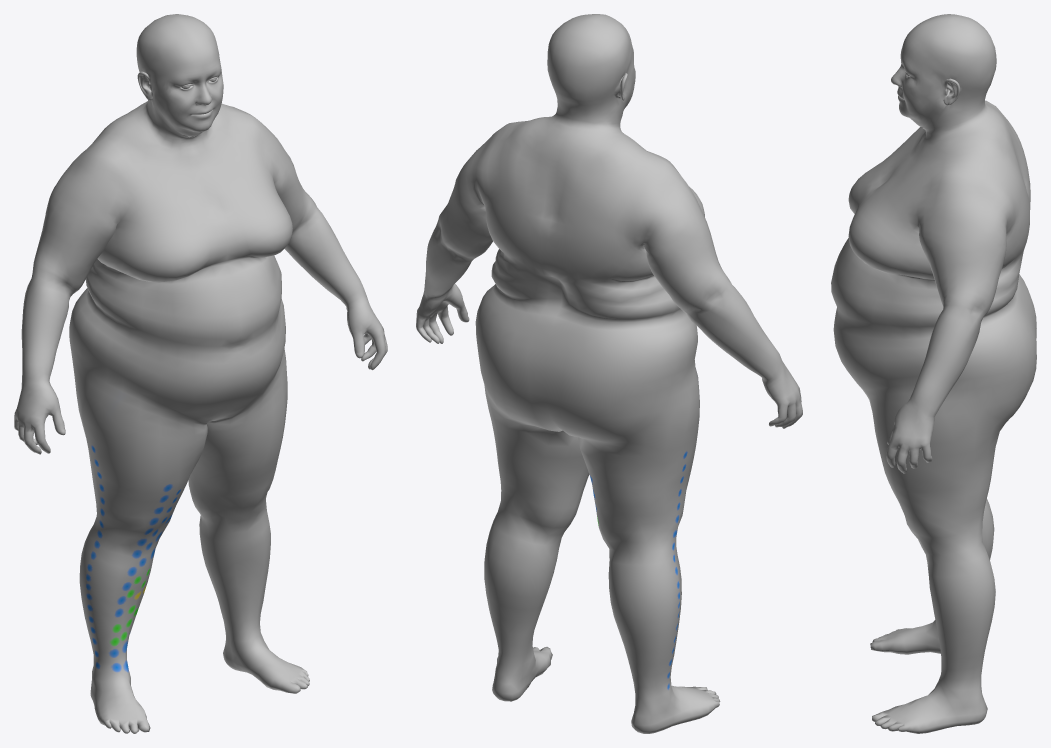
File: 1135011-supine-all.gltf
3 renders of one model, left to right at view 1: azimuth 30°, elevation 25°; view 2: azimuth 150°, elevation 25°; view 3: azimuth 270°, elevation 25°, orthographic. The views are drawn at different scales.
Visible parts, largest first — view 1: mc-Female_61in_250lbs-a-pose; view 2: mc-Female_61in_250lbs-a-pose; view 3: mc-Female_61in_250lbs-a-pose.
Part boxes in pixels (x1,y1,x2,y2): mc-Female_61in_250lbs-a-pose: [14, 14, 387, 733]; mc-Female_61in_250lbs-a-pose: [416, 14, 802, 733]; mc-Female_61in_250lbs-a-pose: [831, 14, 1036, 733].
Size of the model in its own units: 2.64 by 4.66 by 1.3.
Materials: 1 (1 with a texture image).
